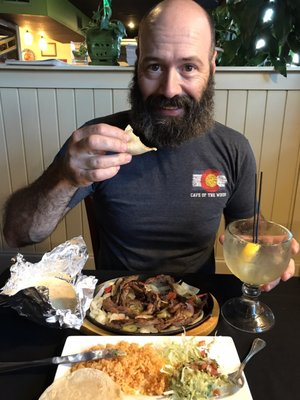curry: (3, 213, 300, 400), (5, 268, 300, 399)
sandwich: (37, 336, 248, 400), (221, 219, 293, 332), (88, 273, 208, 333)
